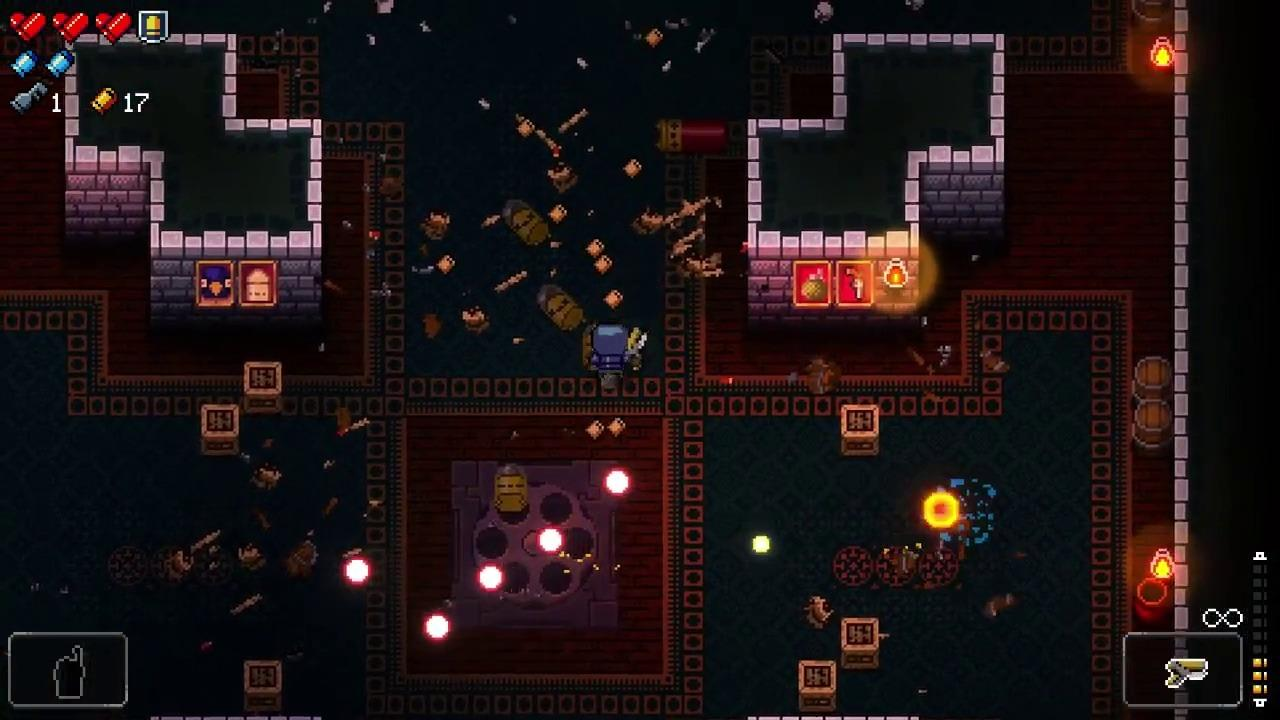bullet: (535, 524, 564, 556), (343, 557, 371, 586), (424, 612, 451, 641), (604, 467, 630, 497), (477, 564, 503, 591)
dead_bullet_kin: (500, 196, 551, 248), (535, 283, 586, 331), (492, 463, 530, 512)
dead_red_shotgun_kin: (655, 118, 729, 153)
player: (592, 324, 627, 376)
teleporter: (447, 459, 618, 633)
